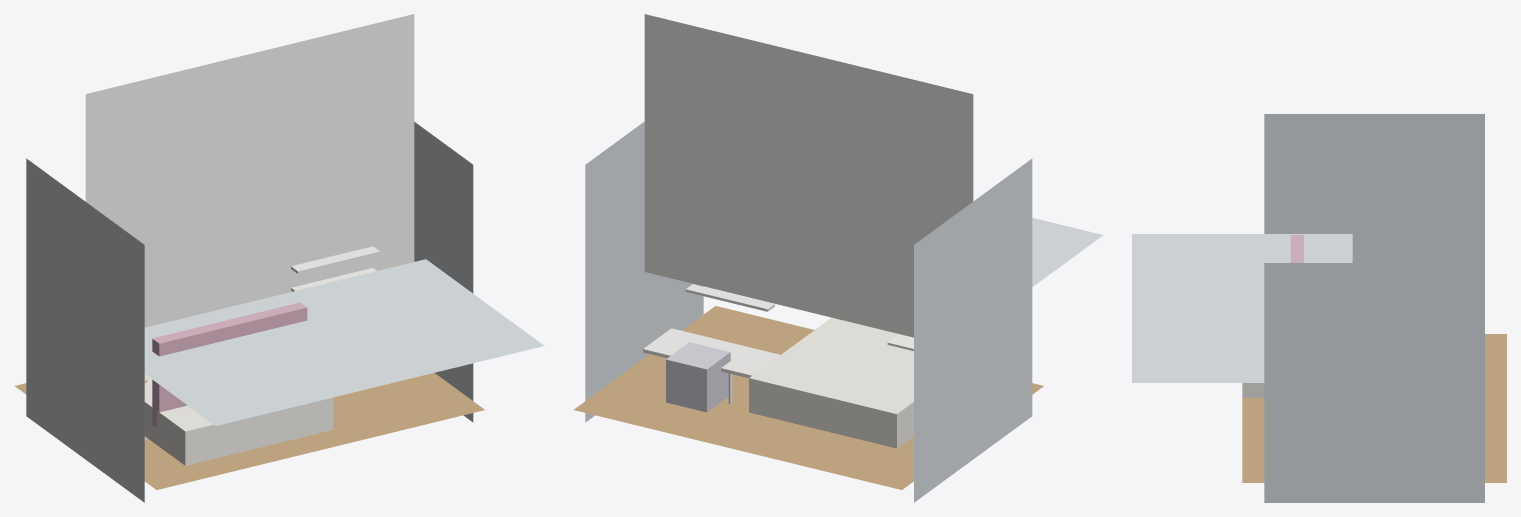
Rendered from bedroom_scene.glb.
3 renders of one model, left to right at view 1: azimuth 30°, elevation 25°; view 2: azimuth 150°, elevation 25°; view 3: azimuth 270°, elevation 25°, orthographic. The views are drawn at different scales.
Visible parts, largest first — view 1: Ceiling, BackWall, LeftWall, Floor, RightWall, BedBase, Headboard, Shelf2; view 2: Ceiling, LeftWall, Floor, RightWall, BedBase, Chair, BackWall, Desk, Shelf0; view 3: RightWall, LeftWall, BackWall, Floor.
Boxes of the visible parts, bbox=[...] form: Ceiling: bbox=[85, 14, 414, 327]; BackWall: bbox=[144, 259, 543, 425]; LeftWall: bbox=[26, 158, 144, 502]; Floor: bbox=[15, 373, 484, 489]; RightWall: bbox=[414, 122, 473, 422]; BedBase: bbox=[144, 374, 333, 465]; Headboard: bbox=[152, 302, 307, 427]; Shelf2: bbox=[291, 246, 380, 273]; Ceiling: bbox=[644, 14, 973, 337]; LeftWall: bbox=[914, 158, 1032, 502]; Floor: bbox=[574, 306, 1043, 489]; RightWall: bbox=[585, 121, 703, 422]; BedBase: bbox=[749, 317, 913, 448]; Chair: bbox=[666, 342, 730, 412]; BackWall: bbox=[1032, 218, 1103, 286]; Desk: bbox=[643, 328, 780, 378]; Shelf0: bbox=[685, 284, 774, 311]; RightWall: bbox=[1264, 263, 1484, 502]; LeftWall: bbox=[1264, 114, 1484, 262]; BackWall: bbox=[1132, 234, 1352, 382]; Floor: bbox=[1242, 334, 1506, 482].
Size of the model in its own units: 800 by 850 by 850.
